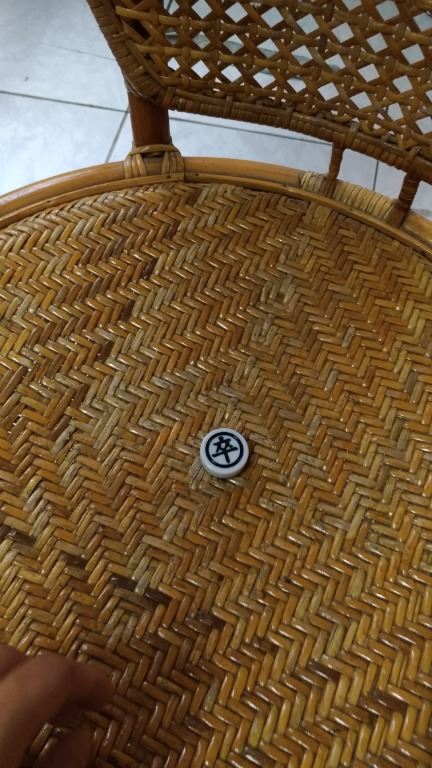b-pawn: (185, 419, 278, 492)
